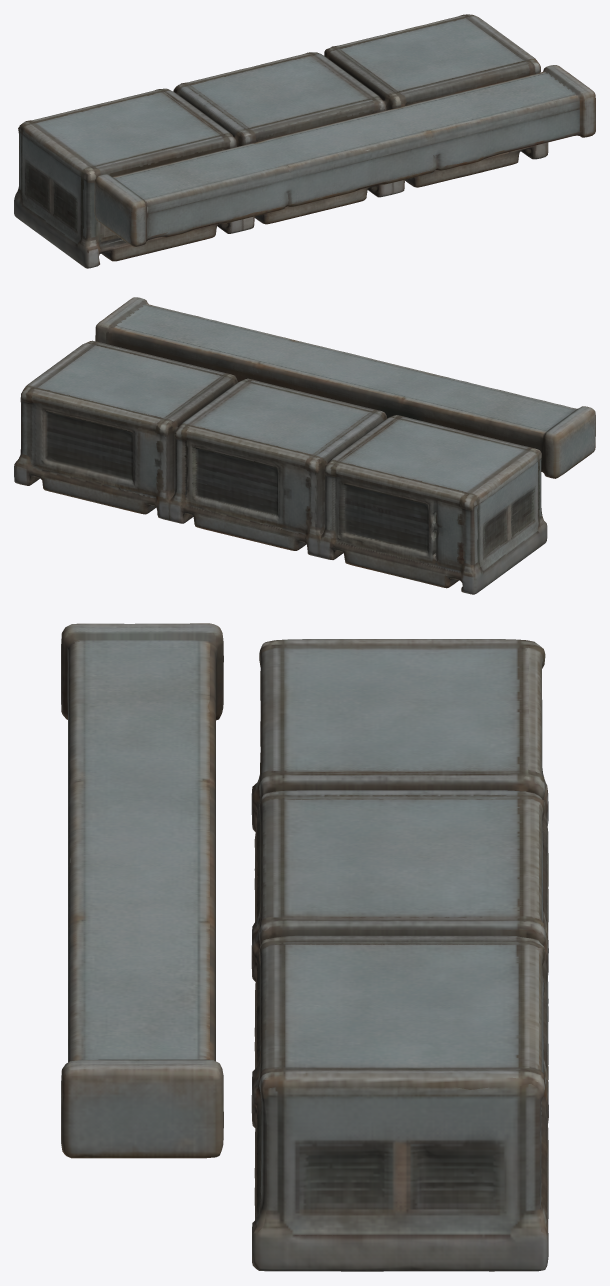
Rendered from shelter_roof_filter_bank.glb.
The picture shows the model from 3 angles, top to bottom: view 1: azimuth 30°, elevation 25°; view 2: azimuth 150°, elevation 25°; view 3: azimuth 270°, elevation 25°; orthographic projection. The views are drawn at different scales.
Bounding box in the file's own units: 1.01 × 0.2132 × 0.4601.
1 material, 1 textured.
